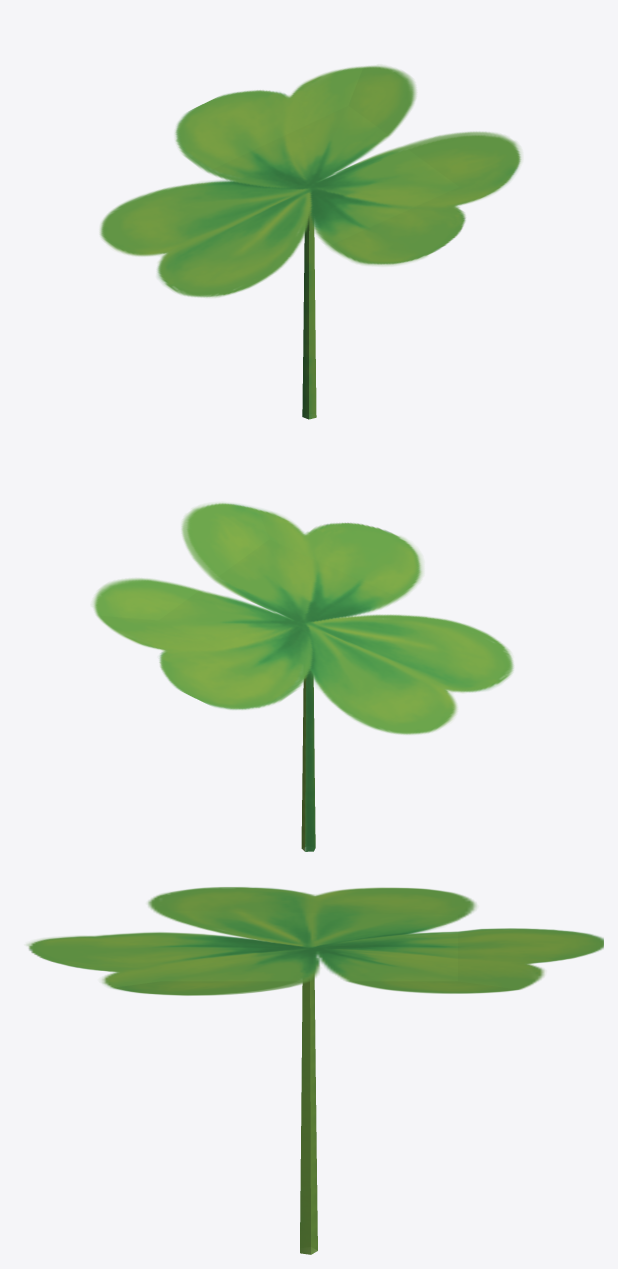
File: Clover.glb
3 renders of one model, top to bottom at view 1: azimuth 30°, elevation 25°; view 2: azimuth 150°, elevation 25°; view 3: azimuth 270°, elevation 25°, orthographic. The views are drawn at different scales.
Parts seen in each view (by area): view 1: CloverShape; view 2: CloverShape; view 3: CloverShape.
Part boxes in pixels (x1,y1,x2,y2): CloverShape: (100, 65, 521, 419); CloverShape: (92, 503, 513, 851); CloverShape: (27, 887, 603, 1254).
Bounding box in the file's own units: 1.95 × 1.39 × 2.
Materials: 1 (1 with a texture image).
